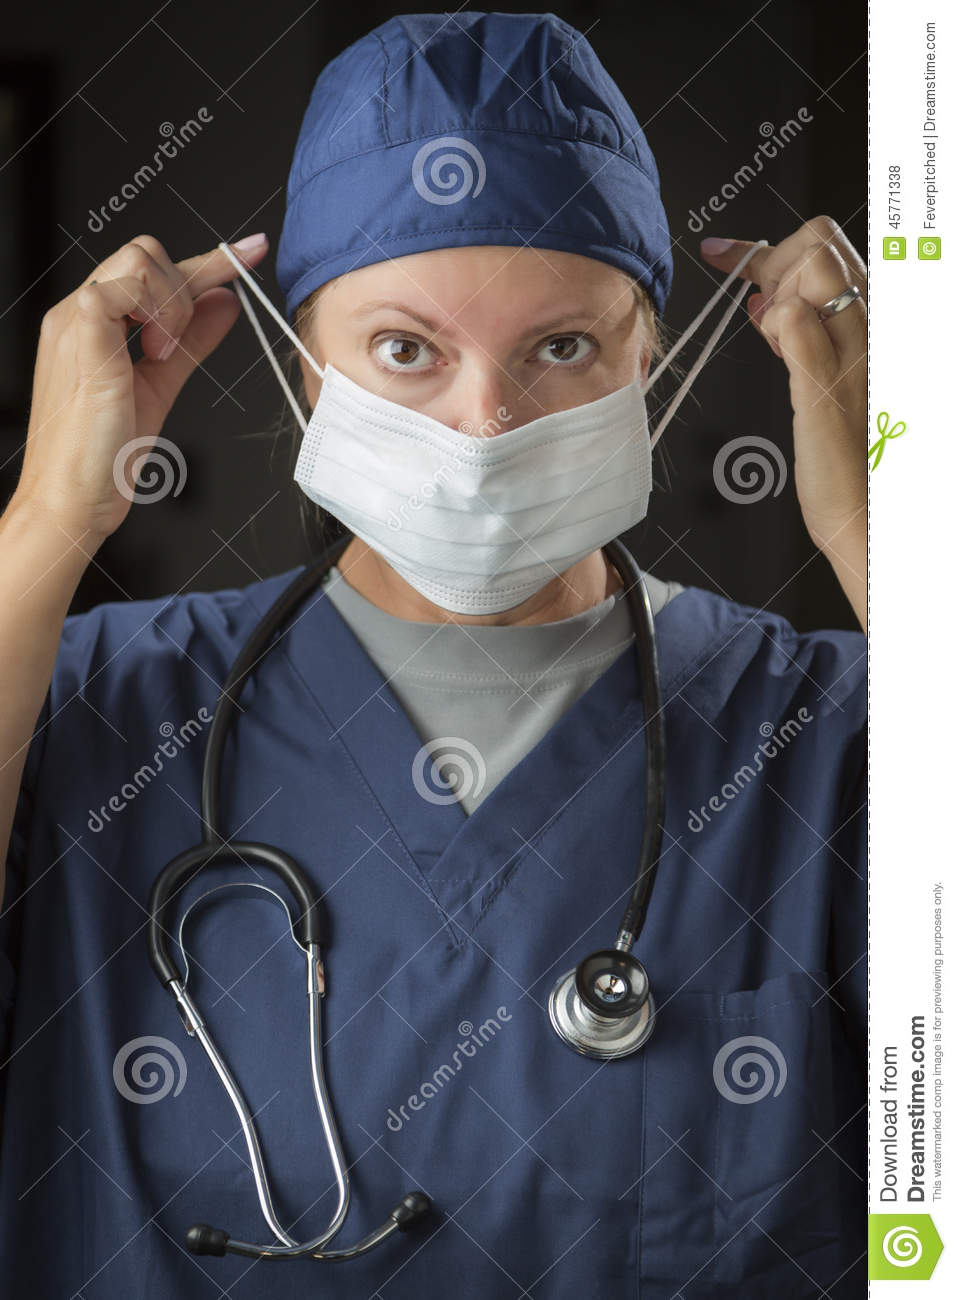mask: (302, 380, 674, 635)
